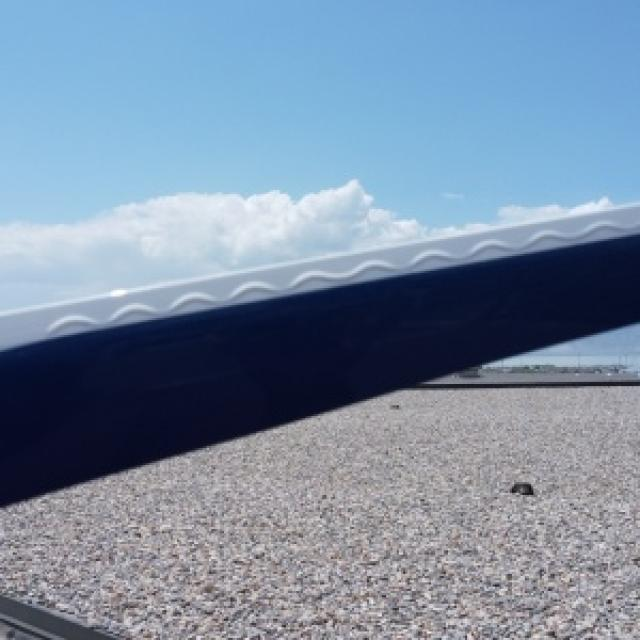healthy: (0, 203, 638, 503)
